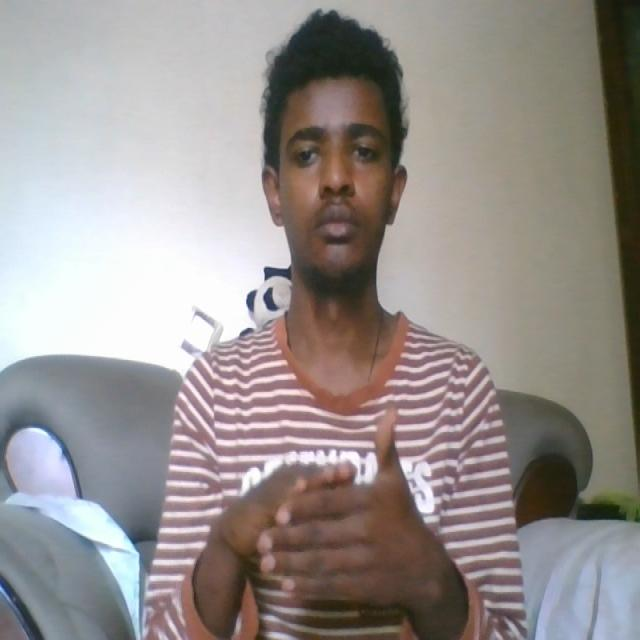tadya: (237, 465, 419, 615)
